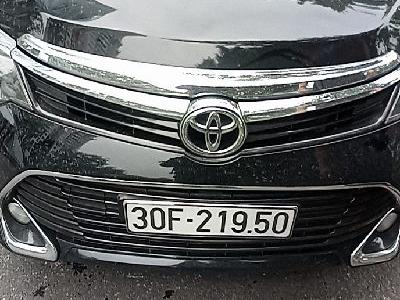car: (123, 201, 299, 242)
